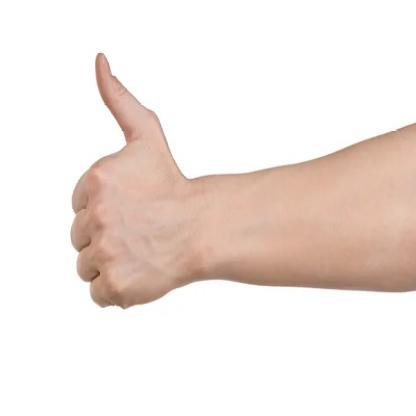thumb_up: (69, 45, 202, 311)
